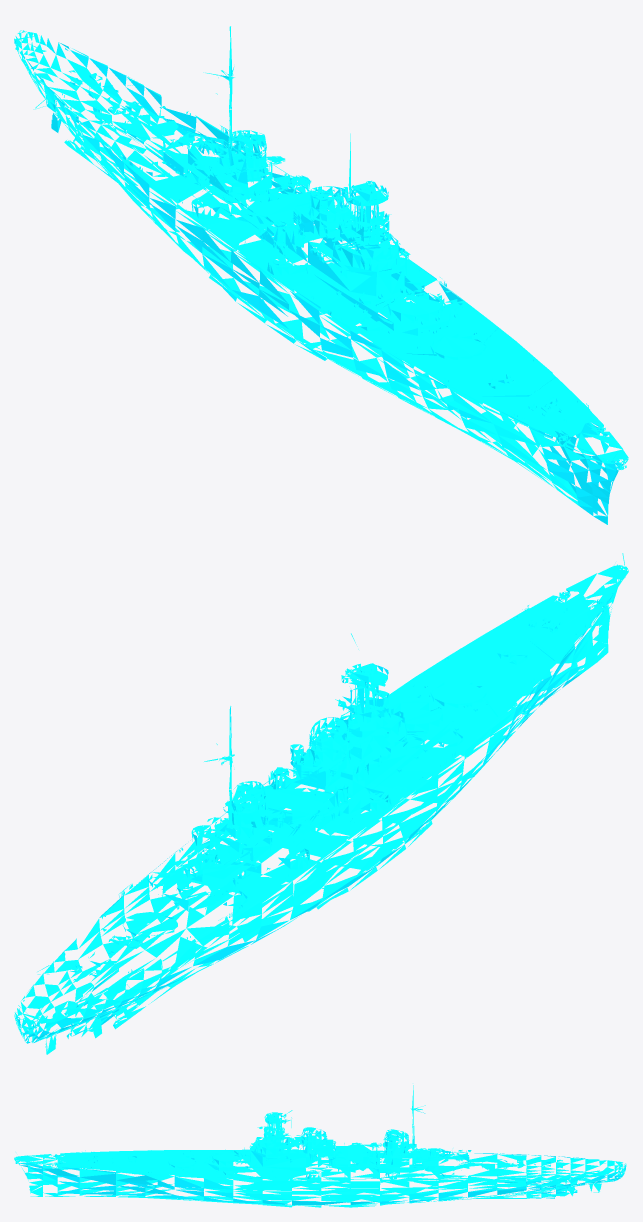
File: AZUR_Aegir.glb
3 renders of one model, top to bottom at view 1: azimuth 30°, elevation 25°; view 2: azimuth 150°, elevation 25°; view 3: azimuth 270°, elevation 25°, orthographic. The views are drawn at different scales.
Bounding box in the file's own units: 2.03 × 3.49 × 17.17.
